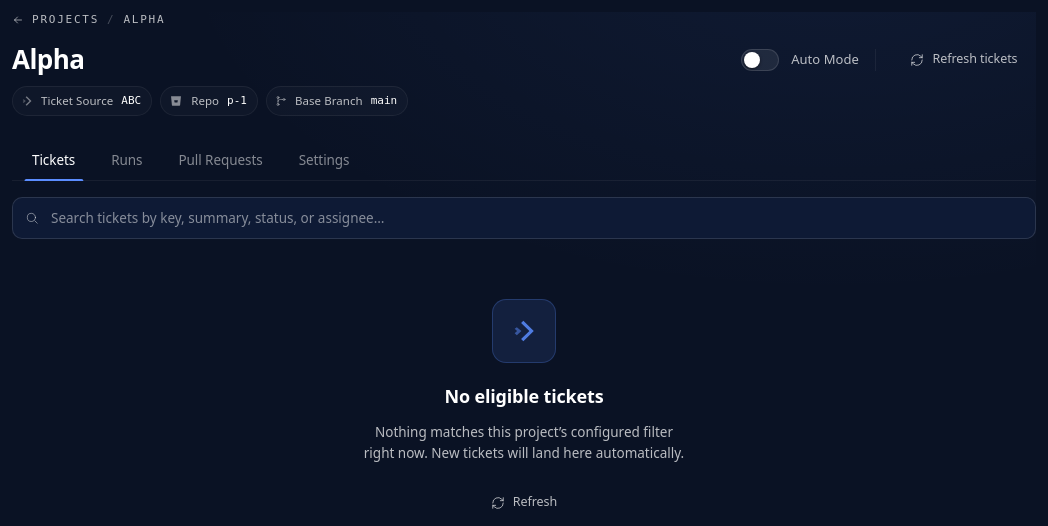
Test: <ProjectDetail> PRs tab — #GH-67 › PRS-011: non-GitHub repos show explanatory empty state, not the error banner
Click the tab "Pull Requests". click: click(221, 160)
box: [162, 140, 279, 180]
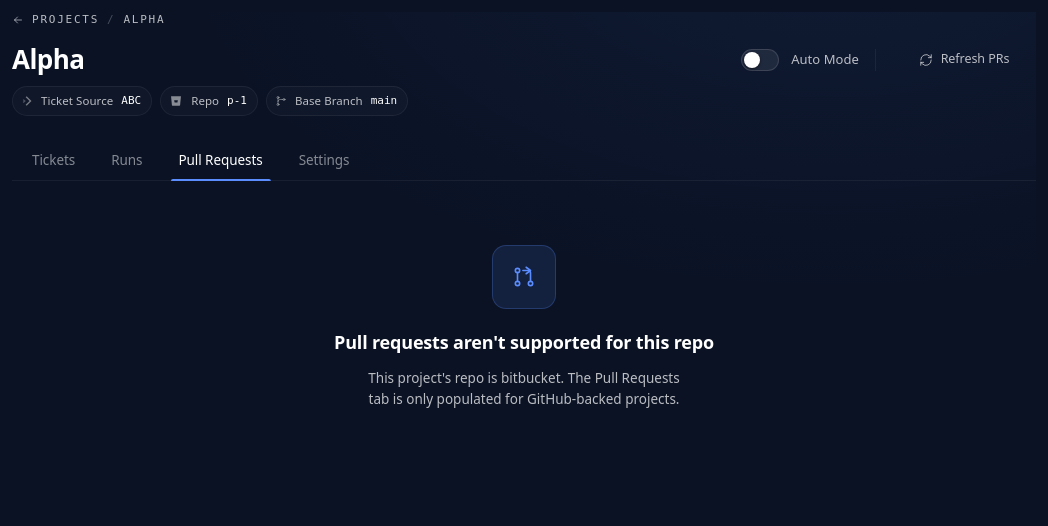
Check: the element with test id "pulls-non-github" is shown, box [334, 245, 714, 408]
